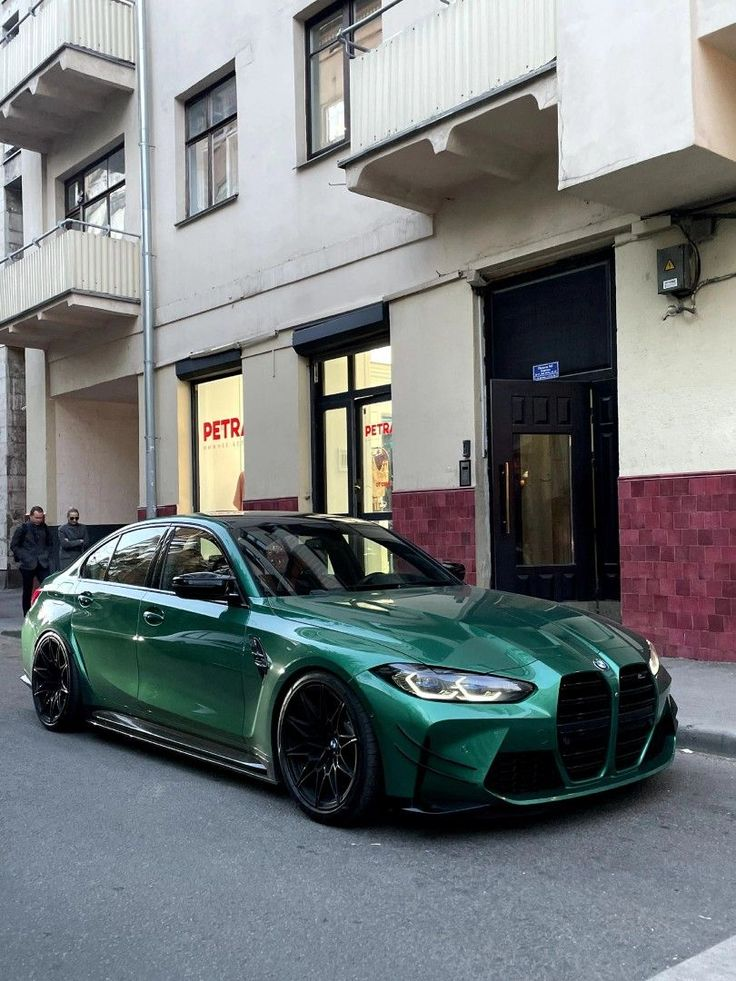car: (17, 508, 677, 834)
